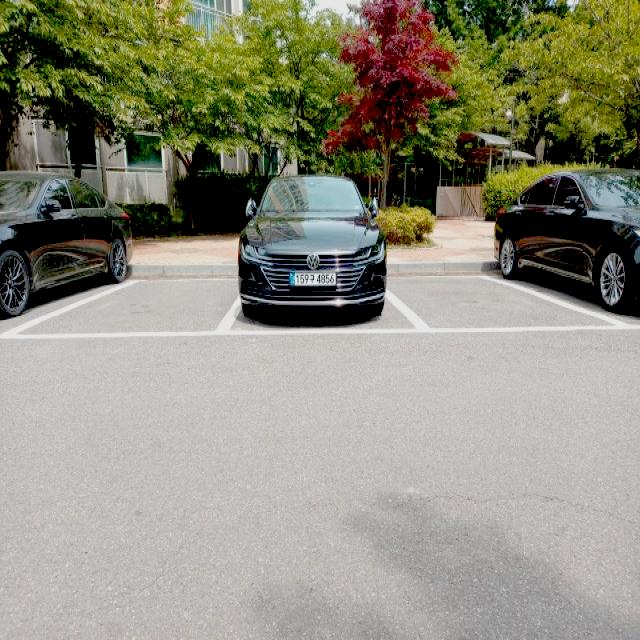empty: (0, 274, 242, 340), (380, 271, 618, 330)
occupied: (234, 172, 384, 316), (496, 167, 640, 309), (0, 179, 128, 322)
